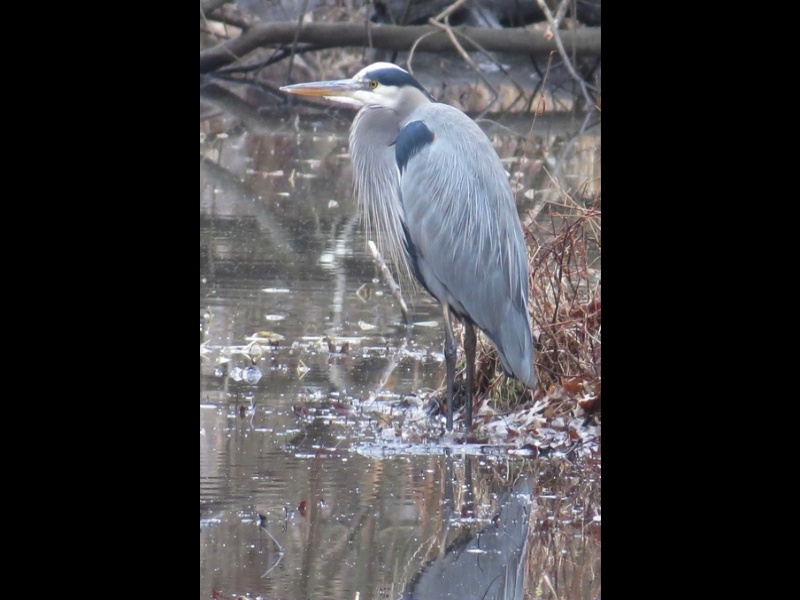heron: (276, 61, 537, 432)
